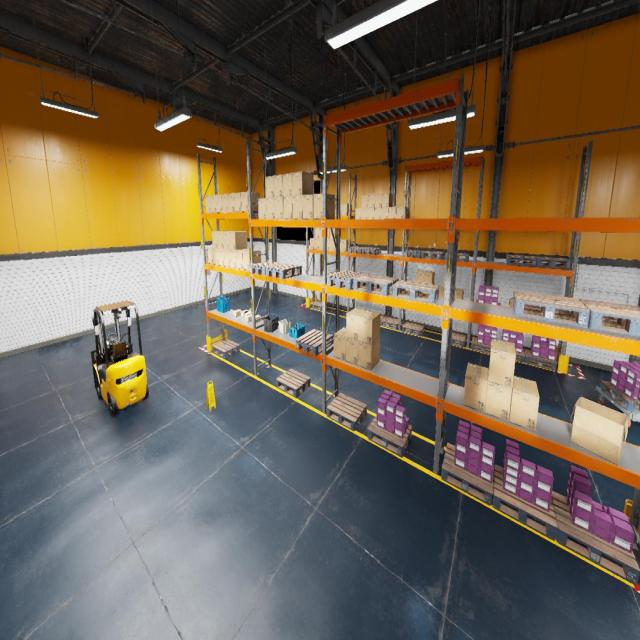box: (570, 397, 628, 465), (510, 376, 540, 431), (485, 369, 512, 421), (488, 338, 516, 388), (463, 362, 488, 412), (358, 310, 381, 345), (358, 338, 380, 370), (346, 308, 367, 340), (313, 193, 335, 219), (292, 171, 313, 196), (283, 196, 303, 219), (334, 327, 346, 360), (242, 250, 261, 270), (241, 192, 259, 212), (229, 231, 247, 250), (346, 338, 358, 365), (292, 196, 306, 219), (274, 198, 288, 220), (302, 194, 313, 219), (223, 231, 238, 249), (236, 249, 249, 269), (212, 230, 226, 248), (283, 173, 292, 196), (265, 175, 274, 198), (509, 297, 527, 308), (274, 175, 282, 198), (266, 198, 274, 219), (258, 198, 266, 219), (217, 231, 226, 248), (396, 206, 407, 219), (234, 192, 241, 212), (382, 193, 392, 207), (415, 270, 426, 282), (221, 194, 228, 212), (210, 195, 217, 213), (424, 271, 434, 283), (340, 240, 350, 252), (342, 203, 352, 215), (228, 193, 234, 212), (230, 249, 236, 268), (454, 288, 464, 299), (224, 249, 230, 267), (218, 248, 224, 266), (374, 194, 382, 207), (216, 195, 222, 212), (205, 195, 211, 212), (212, 248, 218, 265), (388, 206, 396, 218), (374, 207, 382, 219), (368, 195, 375, 208), (208, 246, 213, 264), (335, 238, 342, 250), (244, 308, 252, 318), (320, 228, 328, 238), (361, 208, 368, 219), (382, 206, 388, 218), (362, 195, 368, 207), (368, 207, 374, 219), (330, 228, 336, 239), (355, 208, 361, 219), (241, 309, 249, 317), (252, 315, 261, 322), (314, 228, 320, 238), (245, 314, 252, 322), (336, 204, 341, 215), (233, 310, 242, 316), (314, 239, 319, 249), (330, 239, 334, 251), (310, 238, 314, 249), (439, 286, 443, 296), (327, 227, 329, 239), (327, 239, 329, 250), (320, 239, 322, 249), (444, 274, 445, 290), (443, 289, 444, 296), (335, 204, 335, 216)
forklift: (92, 300, 148, 416)
pallets: (551, 491, 640, 585), (493, 464, 557, 540), (441, 442, 493, 506), (512, 290, 590, 328), (579, 298, 640, 336), (368, 414, 412, 457), (326, 393, 366, 431), (600, 380, 640, 412), (392, 280, 439, 303), (353, 274, 399, 295), (276, 369, 310, 397), (296, 329, 332, 355), (326, 270, 367, 290), (524, 348, 557, 371), (212, 339, 240, 358), (266, 264, 302, 278), (249, 262, 284, 276), (536, 256, 572, 268), (506, 254, 537, 266), (470, 337, 490, 354), (402, 322, 424, 336), (381, 316, 402, 329), (422, 250, 446, 260), (445, 252, 469, 262), (451, 332, 466, 347), (404, 249, 425, 258), (310, 300, 328, 310), (515, 348, 525, 362), (362, 247, 381, 254), (476, 300, 502, 305), (349, 247, 368, 253), (380, 315, 385, 320)
